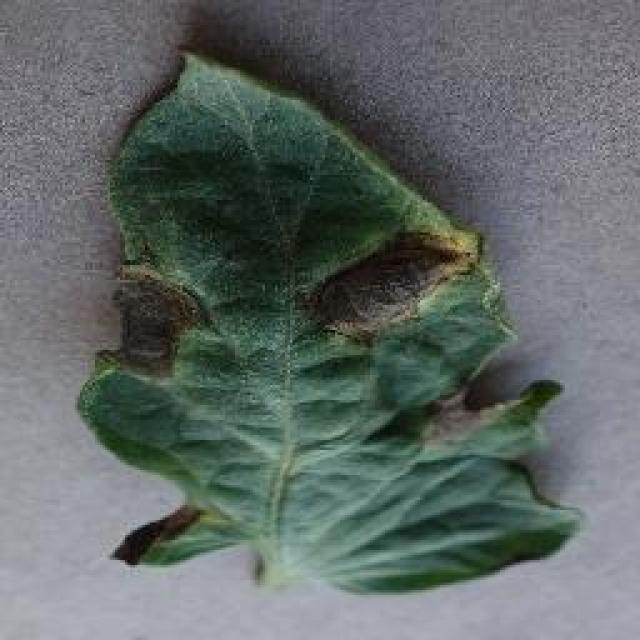Tomato_Early_Blight: (82, 208, 574, 449)
